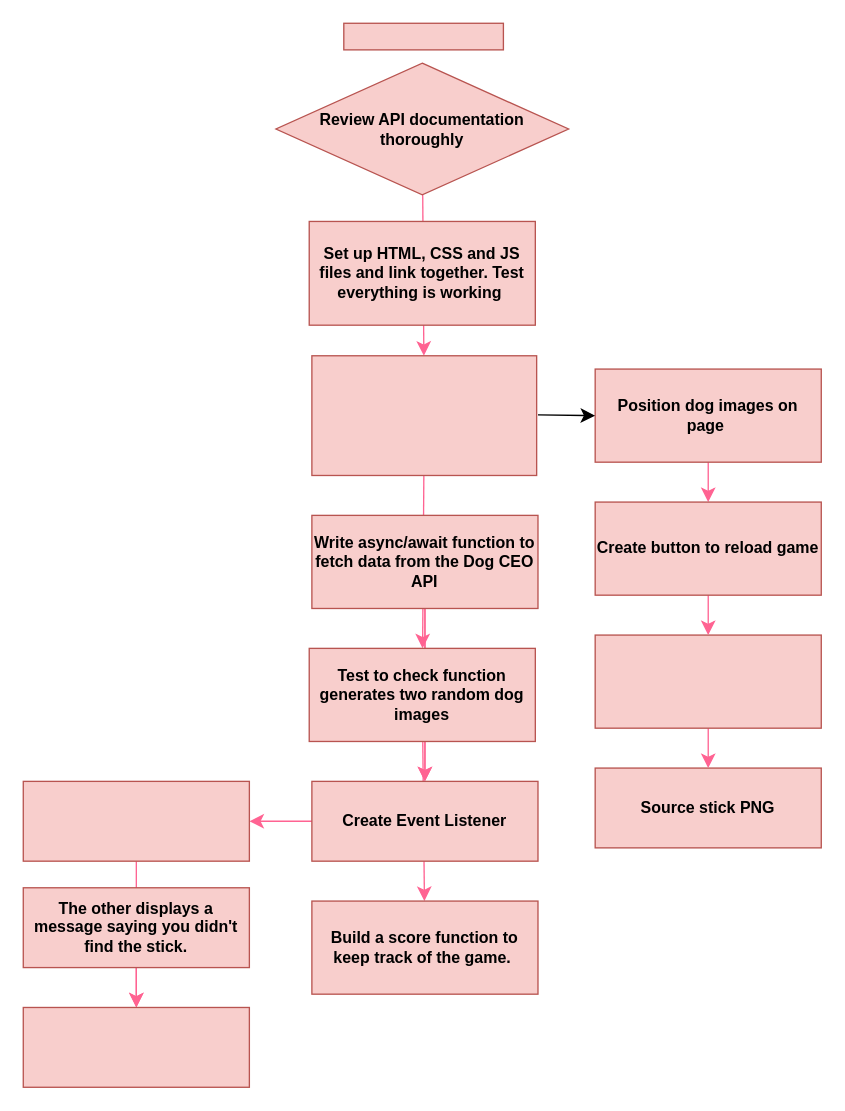
This 845x1111 diagram has some shape labels left out. Here are the shapes that lost their labels. From the top down, the centre of each, then its label:
At pixel 422 36: "MVP 1".
At pixel 424 414: "Building blocks of UI".
At pixel 707 681: "Add a greeting and a set of text instructions to the page to explain the game".
At pixel 135 820: "When user clicks one of the images, one is replaced with a PNG of the stick".
At pixel 135 1046: "Test Event Listener".
